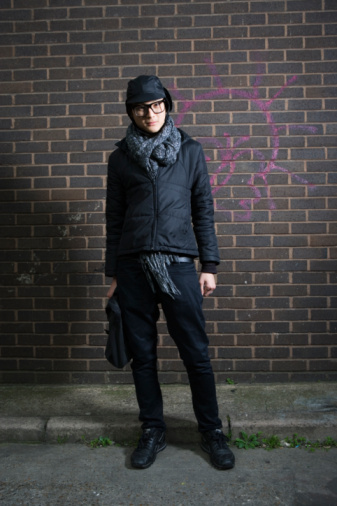em pe: (88, 64, 230, 472)
